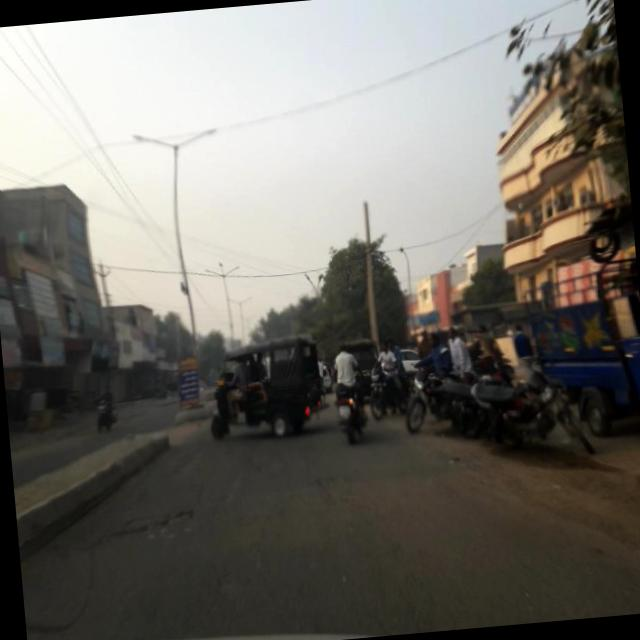pothole: (83, 502, 204, 556), (300, 455, 384, 505)
